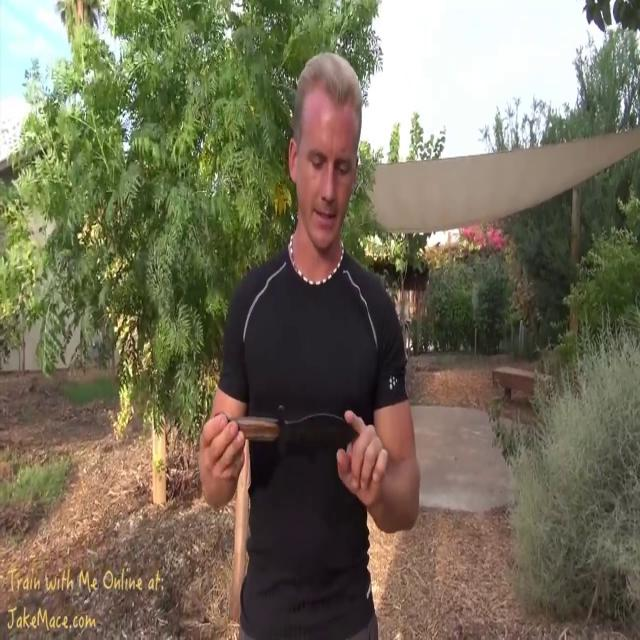knife: (210, 404, 368, 462)
